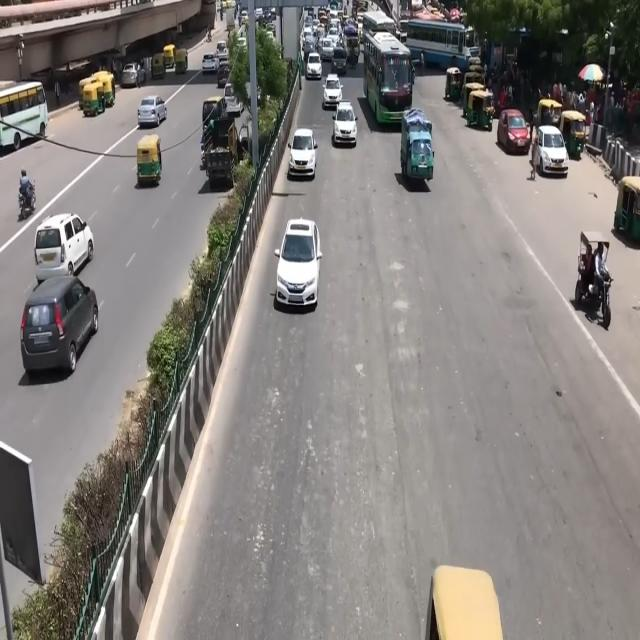auto: (609, 167, 640, 254), (132, 126, 165, 193), (562, 102, 587, 167), (536, 94, 563, 151), (468, 86, 495, 141), (77, 86, 102, 120), (464, 80, 484, 119), (95, 73, 115, 110), (151, 42, 166, 79), (171, 50, 191, 74), (162, 41, 175, 65)
bike-auto: (574, 226, 624, 334), (18, 164, 40, 241)
